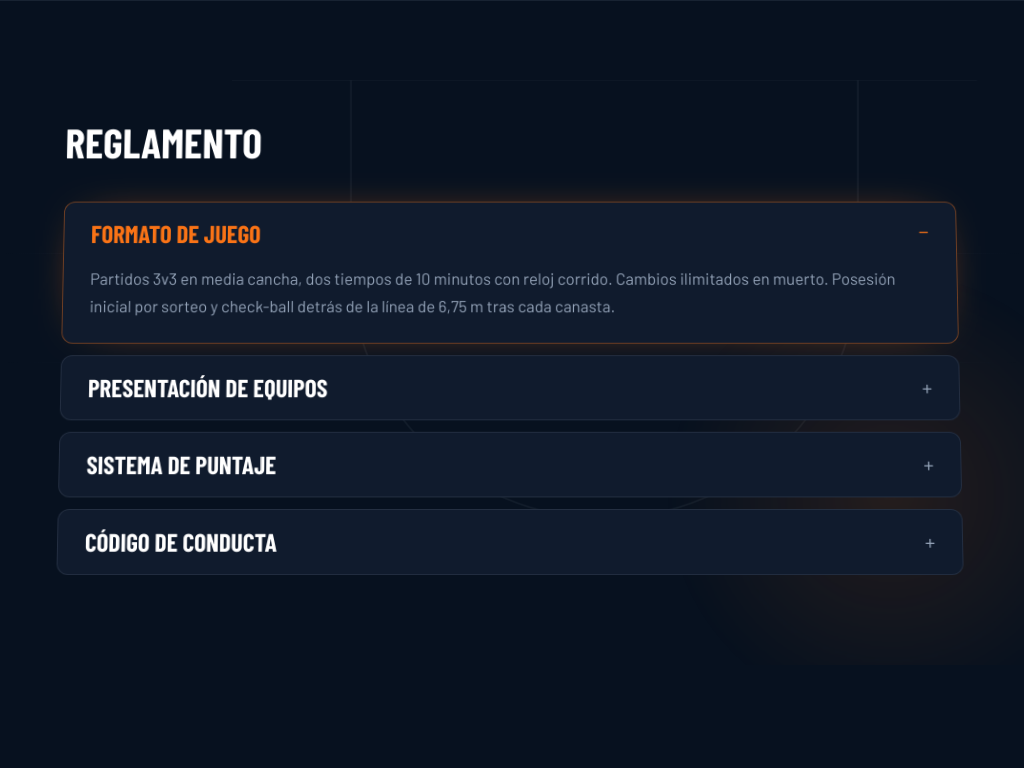
Scenario: Rules › cierra el ítem que ya estaba abierto
Click the button "Formato de juego −". click: (176, 233)
box: x1=64 y1=203 x2=956 y2=265
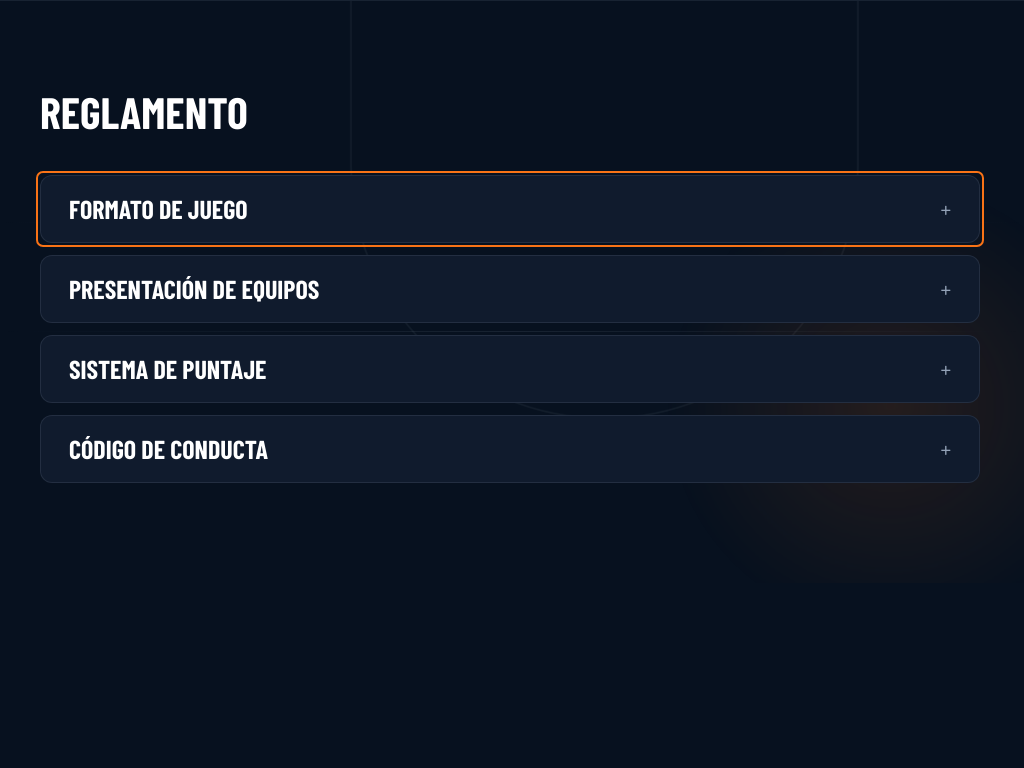
Expected: the button "Formato de juego +" is collapsed, x1=41 y1=176 x2=979 y2=242
